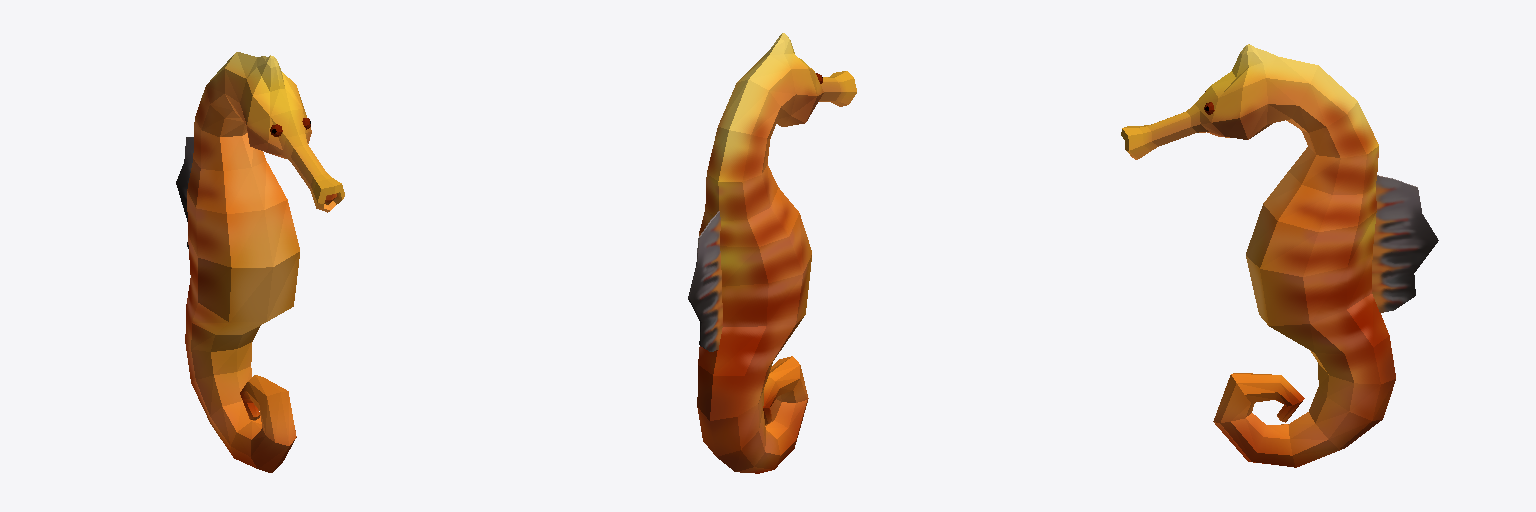
The picture shows the model from 3 angles: view 1: azimuth 30°, elevation 25°; view 2: azimuth 150°, elevation 25°; view 3: azimuth 270°, elevation 25°; orthographic projection.
Bounding box in the file's own units: 1.38 × 5.98 × 4.07.
3 materials, 1 textured.